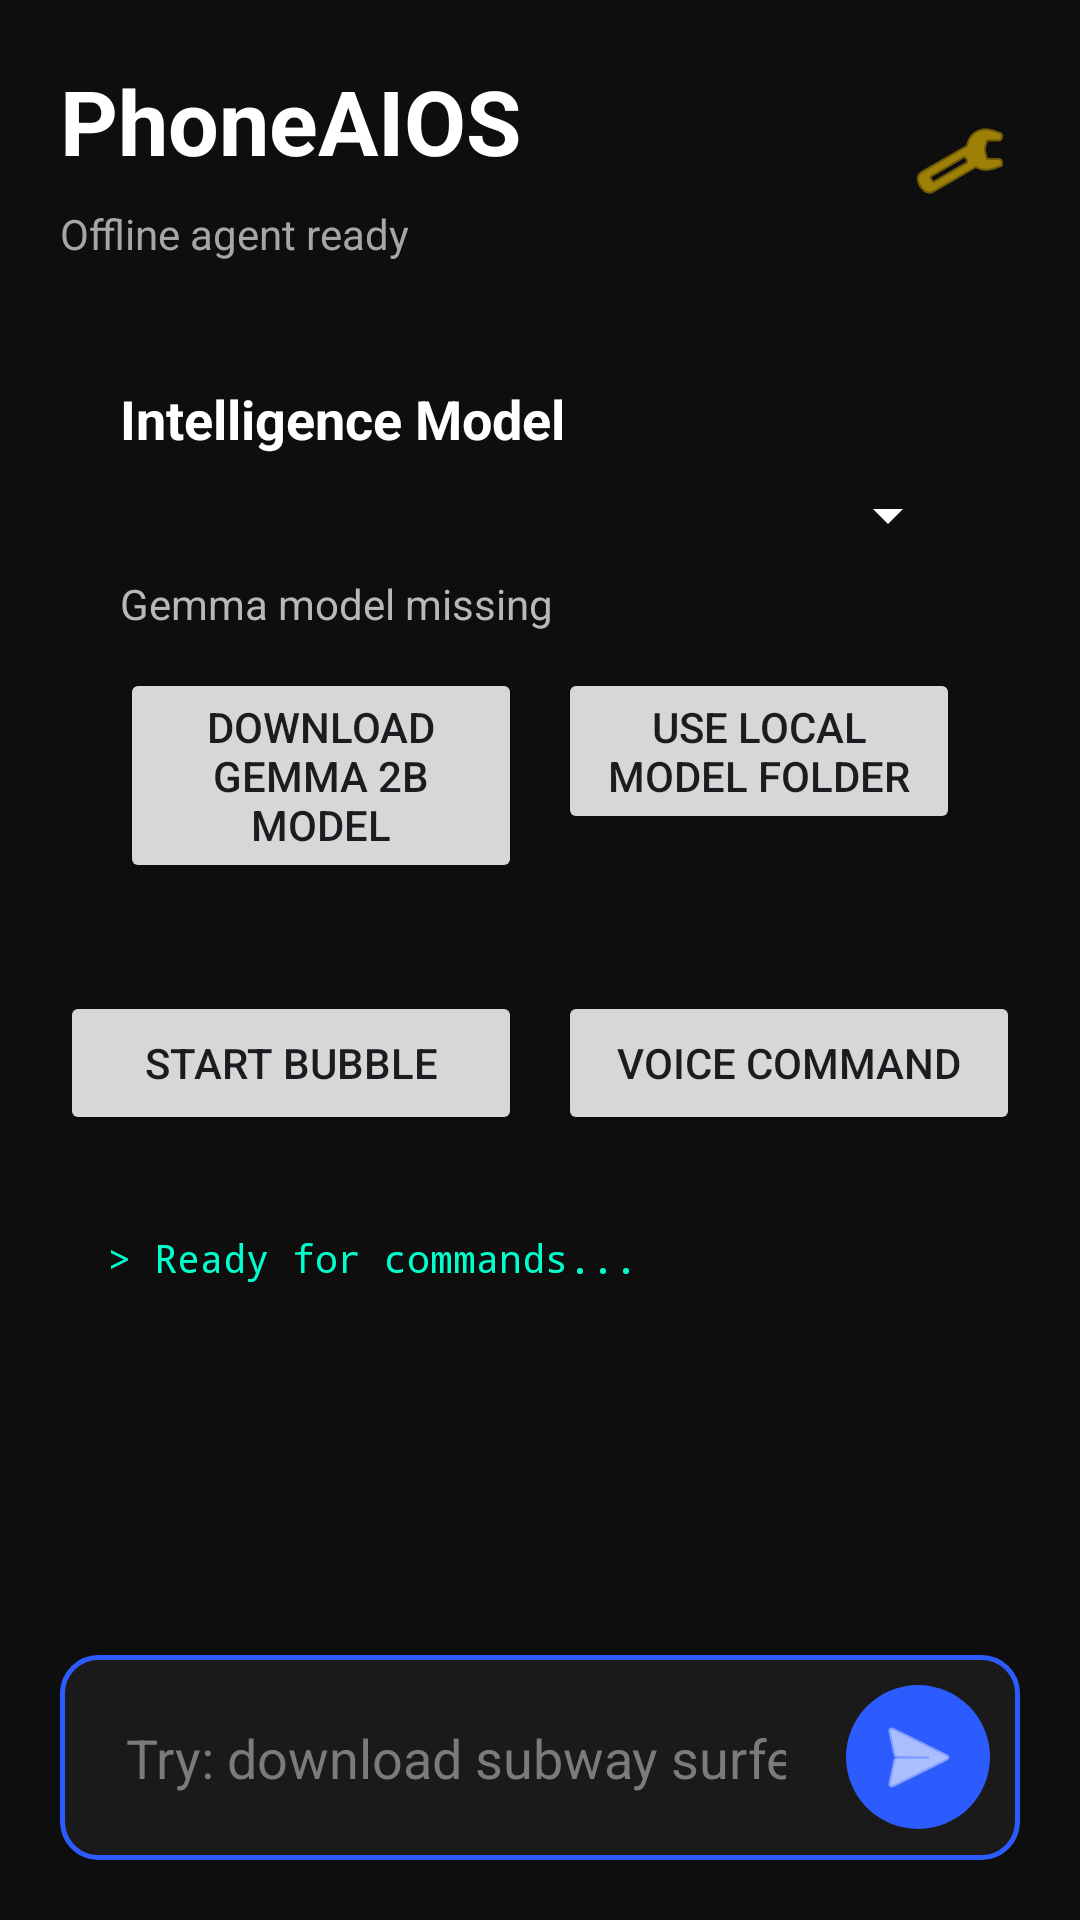

Screen size 1080px×1920px. Icon name, then its center in pixels as (x=x, y=y):
manage: (x=960, y=161)
